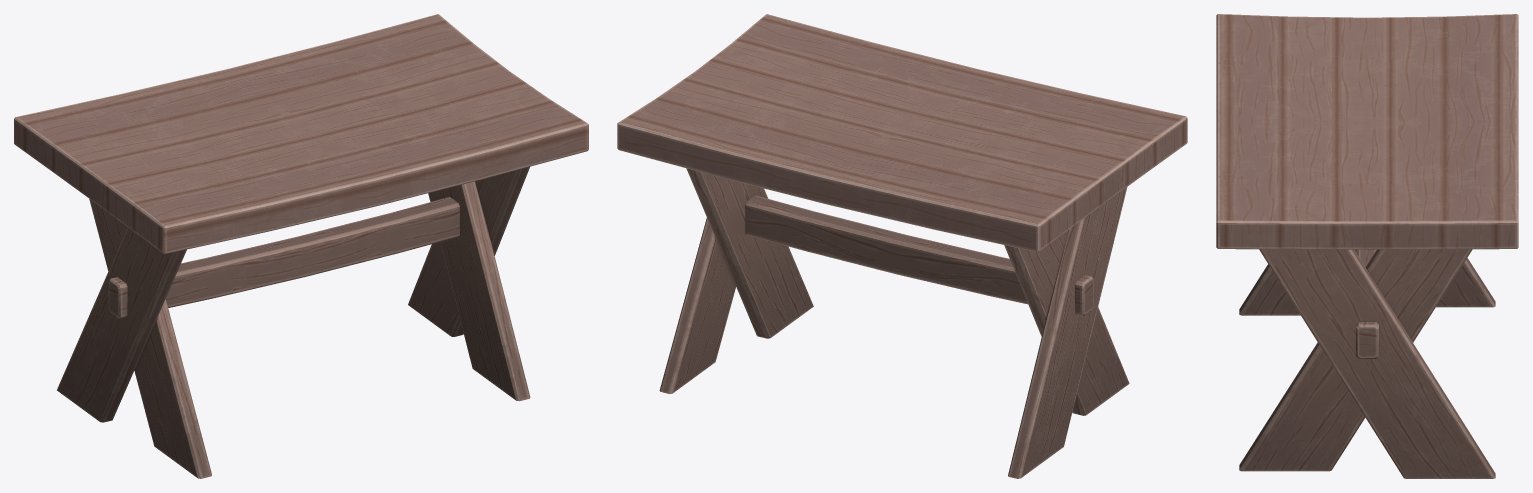
The picture shows the model from 3 angles, left to right: view 1: azimuth 30°, elevation 25°; view 2: azimuth 150°, elevation 25°; view 3: azimuth 270°, elevation 25°; orthographic projection.
Visible parts, largest first — view 1: submesh_0; view 2: submesh_0; view 3: submesh_0.
Part boxes in pixels (box(x1,y1,x2,y2)): submesh_0: box(14, 14, 588, 478); submesh_0: box(617, 14, 1187, 478); submesh_0: box(1216, 14, 1518, 478).
Size of the model in its own units: 1.47 by 0.8997 by 0.9042.
Materials: 1 (1 with a texture image).
